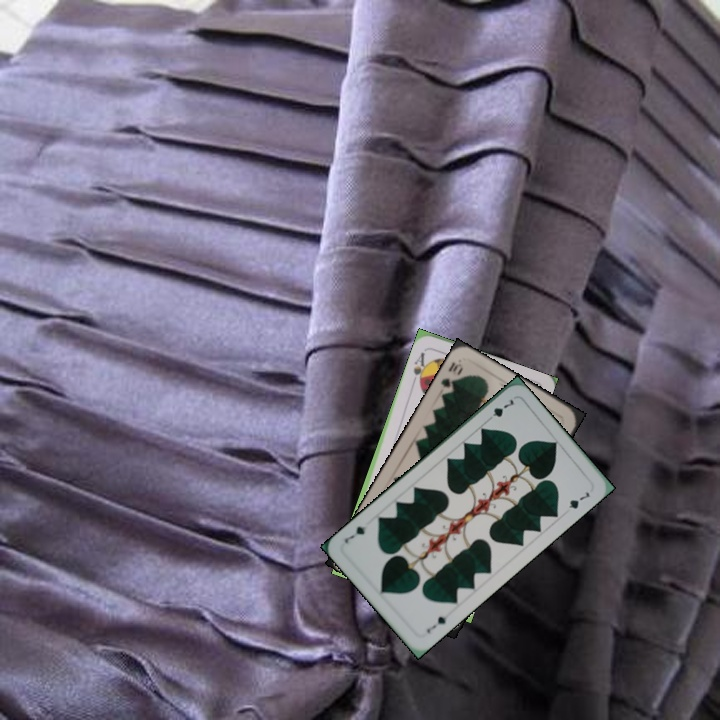G10: (437, 358, 466, 397)
G7: (482, 395, 517, 425), (422, 612, 449, 636)
SA: (408, 348, 431, 387)
